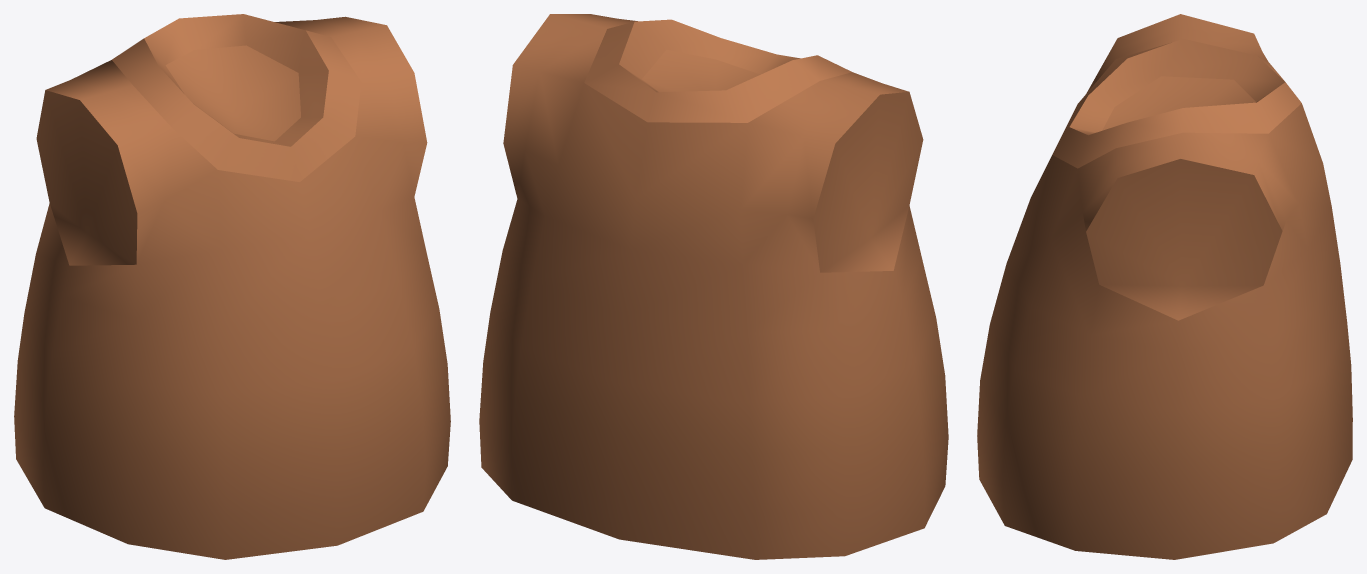
The model's file is Top_59.fbx.
The picture shows the model from 3 angles, left to right: view 1: azimuth 30°, elevation 25°; view 2: azimuth 150°, elevation 25°; view 3: azimuth 270°, elevation 25°; orthographic projection. The views are drawn at different scales.
Visible parts, largest first — view 1: Top_59; view 2: Top_59; view 3: Top_59.
Boxes of the visible parts, <box> form: Top_59: <box>14,14,450,559</box>; Top_59: <box>479,14,948,559</box>; Top_59: <box>977,14,1352,559</box>.
Bounding box in the file's own units: 41 × 42.68 × 35.79.
